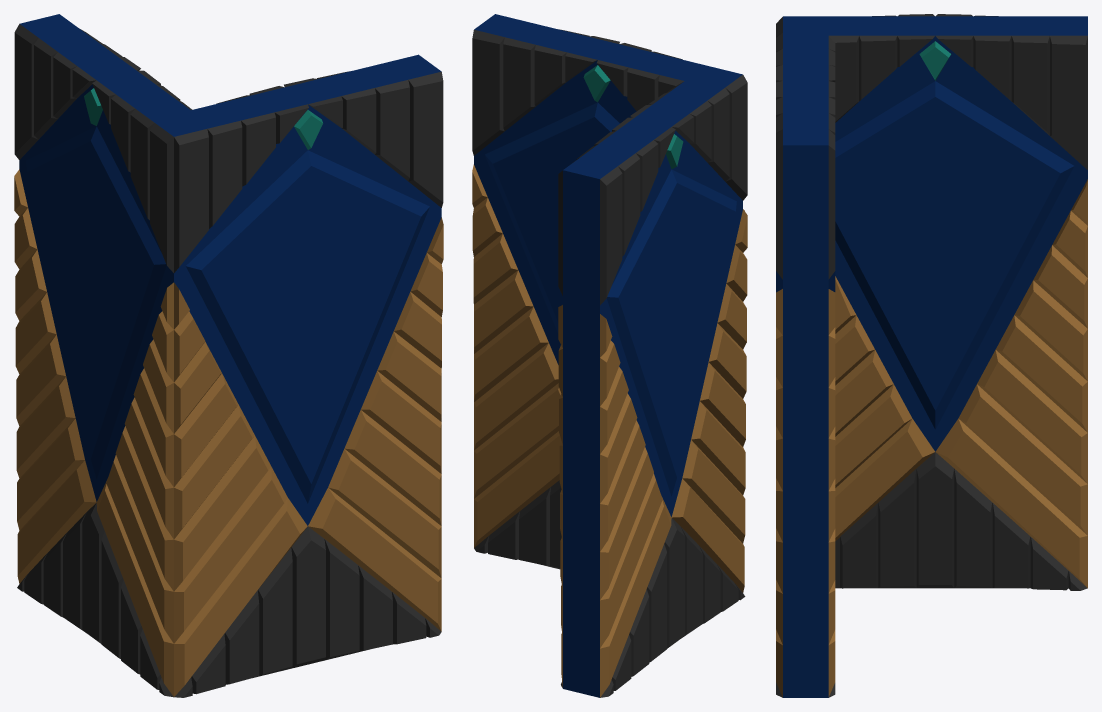
Rendered from AncientEgyptianCorner.glb.
3 views of the same model, side by side, from view 1: azimuth 30°, elevation 25°; view 2: azimuth 150°, elevation 25°; view 3: azimuth 270°, elevation 25° (orthographic). The views are drawn at different scales.
Visible parts, largest first — view 1: wall_diamond_corner; view 2: wall_diamond_corner; view 3: wall_diamond_corner.
Boxes of the visible parts, x1,y1,x2,y2 form: wall_diamond_corner: (14, 14, 443, 697); wall_diamond_corner: (472, 14, 747, 697); wall_diamond_corner: (776, 14, 1087, 697).
Size of what is drawn, in the model's own units: 2.04 by 4 by 2.04.
1 material, 1 textured.
